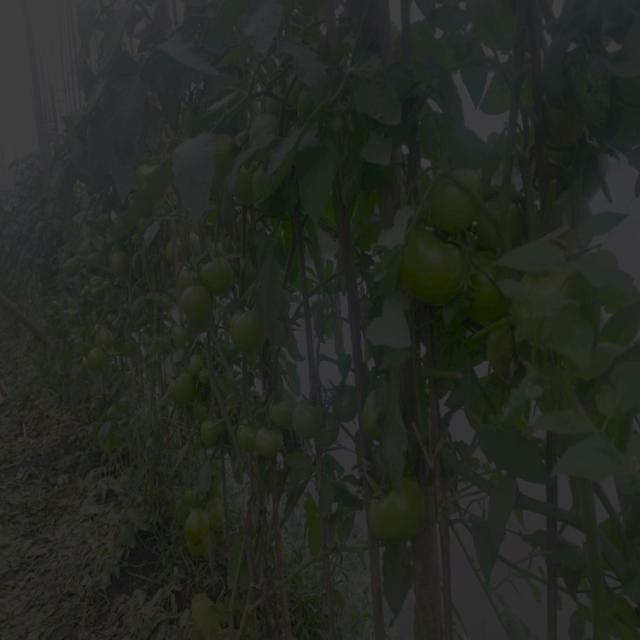tomato: (402, 227, 480, 313), (366, 478, 442, 550), (429, 167, 479, 230), (230, 304, 276, 353), (465, 253, 499, 317), (201, 256, 244, 297), (336, 381, 371, 429), (177, 285, 212, 331), (254, 423, 289, 468), (168, 370, 204, 409), (184, 495, 219, 533), (262, 387, 292, 430), (363, 386, 388, 429), (78, 348, 114, 377), (247, 107, 281, 135), (242, 159, 265, 198), (295, 394, 317, 432), (218, 128, 242, 162), (92, 323, 119, 352), (189, 357, 211, 387), (203, 416, 224, 444), (90, 278, 110, 305), (107, 244, 127, 269), (238, 418, 257, 444), (64, 256, 81, 279), (179, 266, 198, 283), (83, 249, 98, 267)
